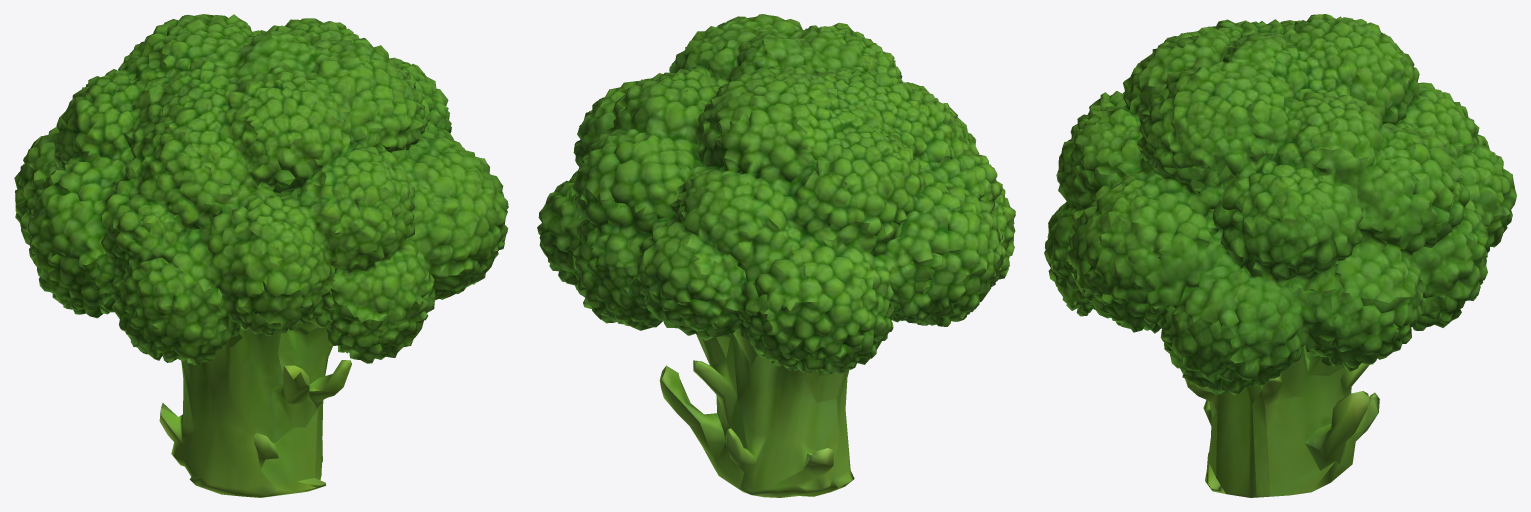
Rendered from getkong-broccoli.glb.
3 renders of one model, left to right at view 1: azimuth 30°, elevation 25°; view 2: azimuth 150°, elevation 25°; view 3: azimuth 270°, elevation 25°, orthographic. The views are drawn at different scales.
Visible parts, largest first — view 1: output_unwrapped; view 2: output_unwrapped; view 3: output_unwrapped.
Boxes of the visible parts, x1=… form: output_unwrapped: x1=14, y1=14, x2=508, y2=497; output_unwrapped: x1=537, y1=14, x2=1015, y2=497; output_unwrapped: x1=1044, y1=14, x2=1516, y2=497.
Bounding box in the file's own units: 1.9 × 1.82 × 1.75.
Materials: 1 (1 with a texture image).
